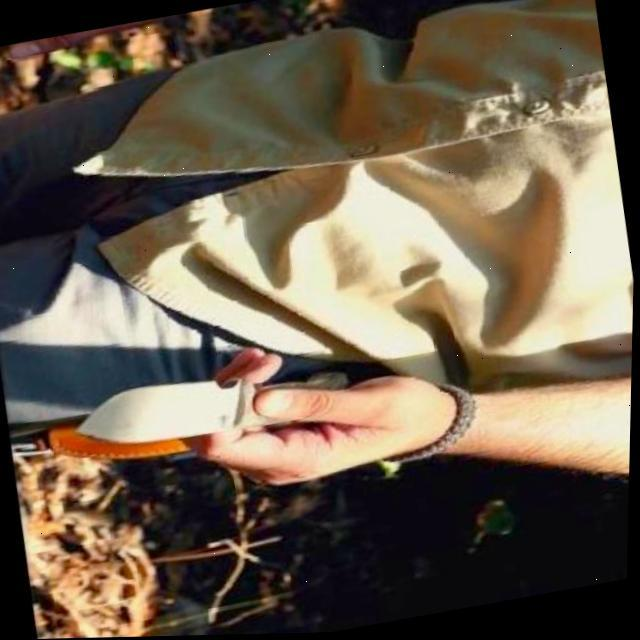knife: (70, 352, 354, 460)
